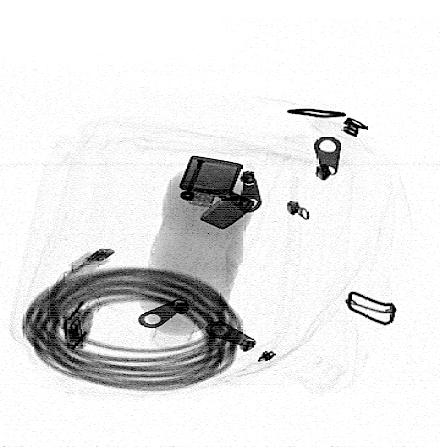Lighter: (179, 155, 255, 231)
